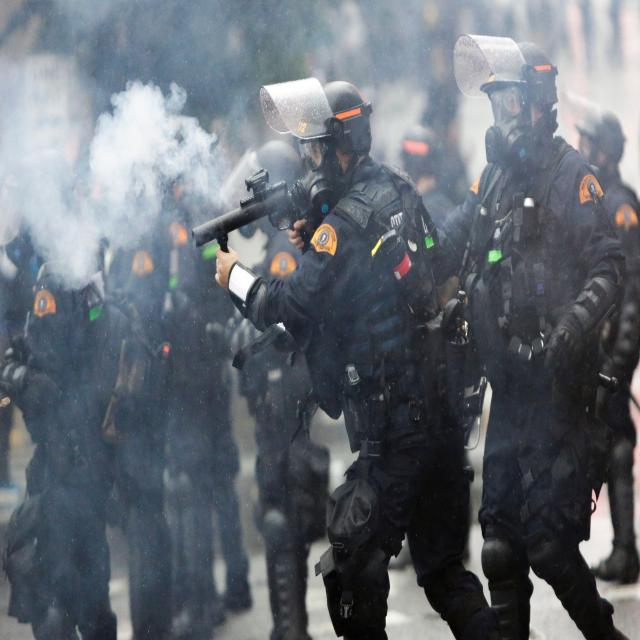police: (183, 39, 481, 640), (428, 25, 608, 640)
